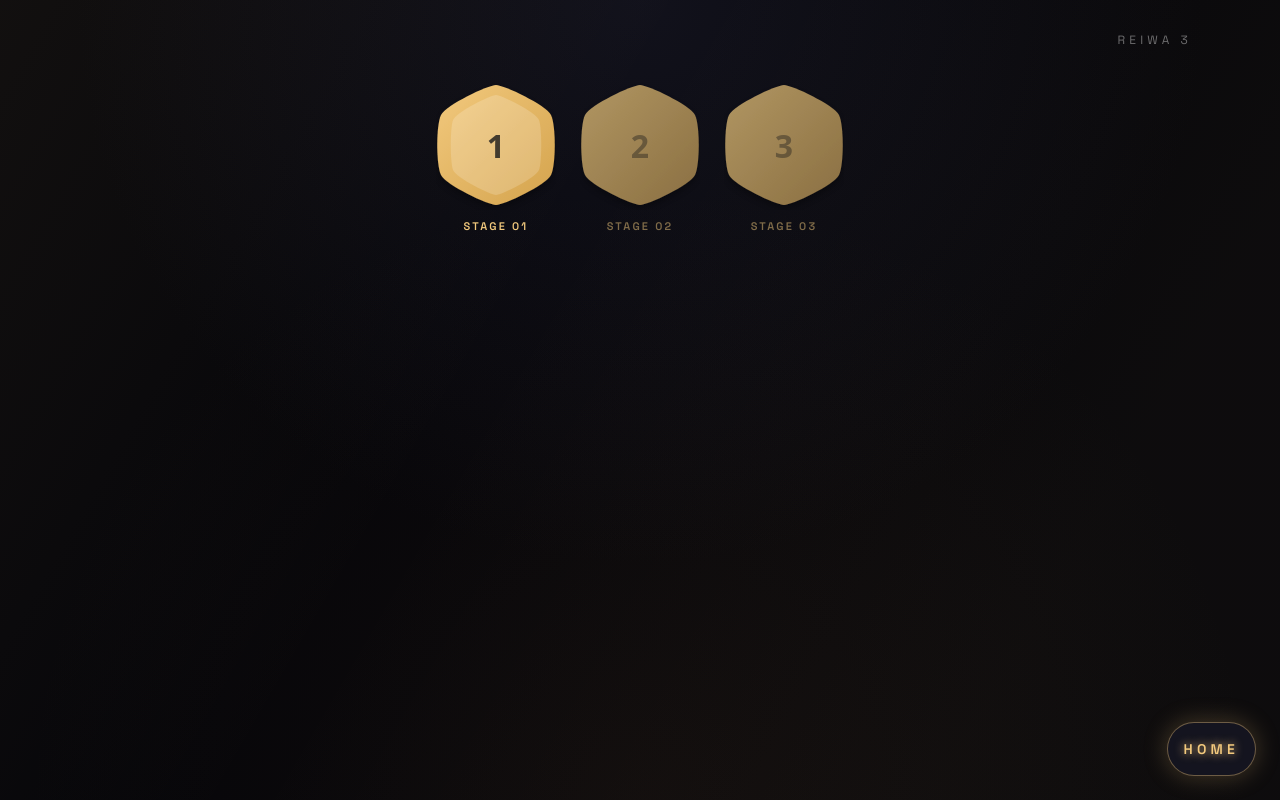
Scenario: StageSelectPage › モーダルを開いたあとEscで閉じられる
The image size is (1280, 800).
Click the button "1 Stage 01".
click(496, 158)  # box [436, 80, 556, 236]
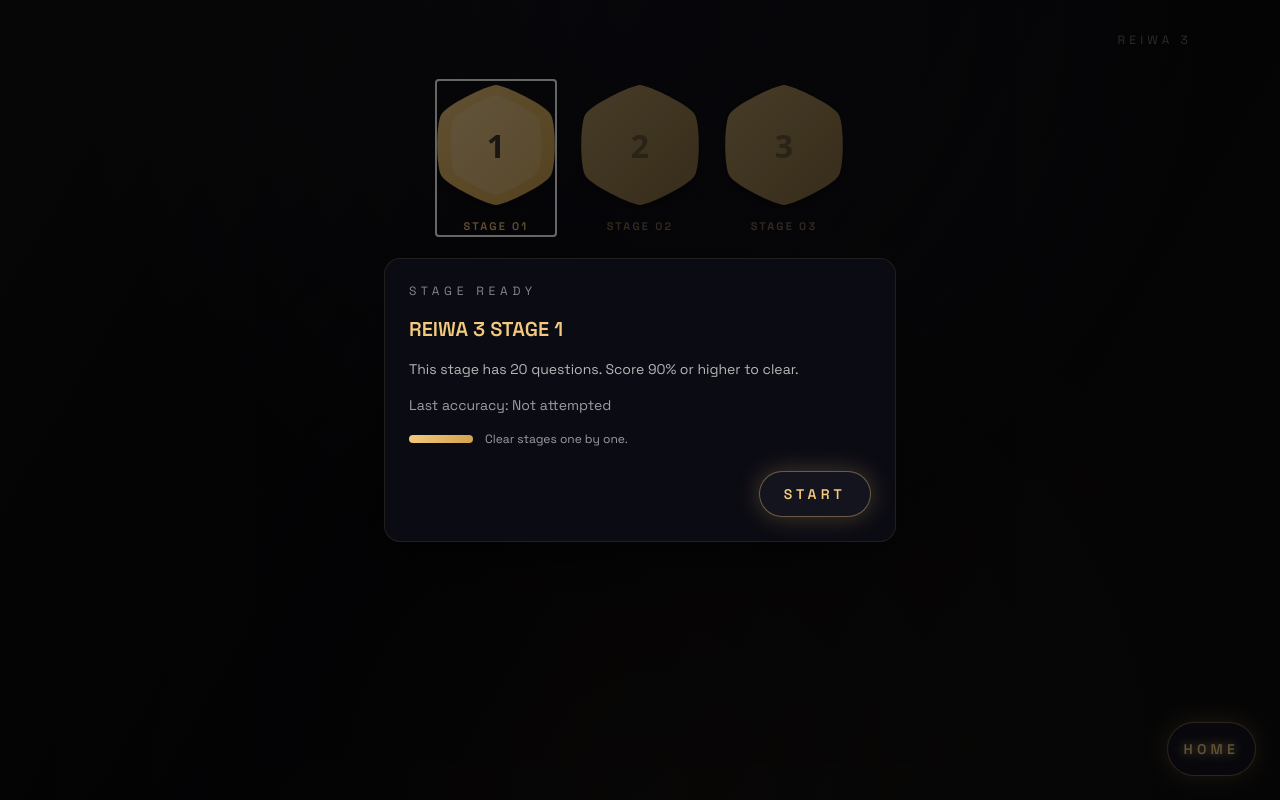
Result: the text "Stage Ready" is shown at [409, 283, 537, 299]
Press Escape
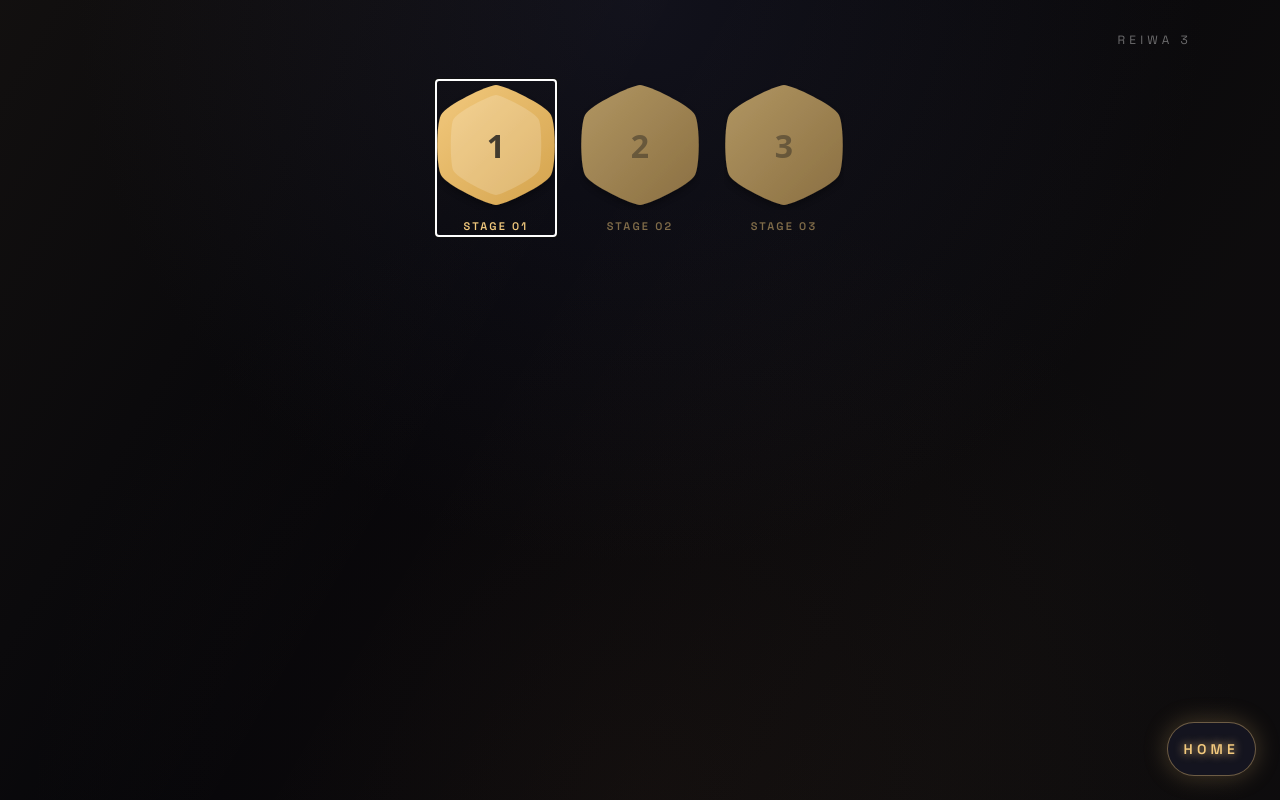
Result: the text "Stage Ready" is gone
